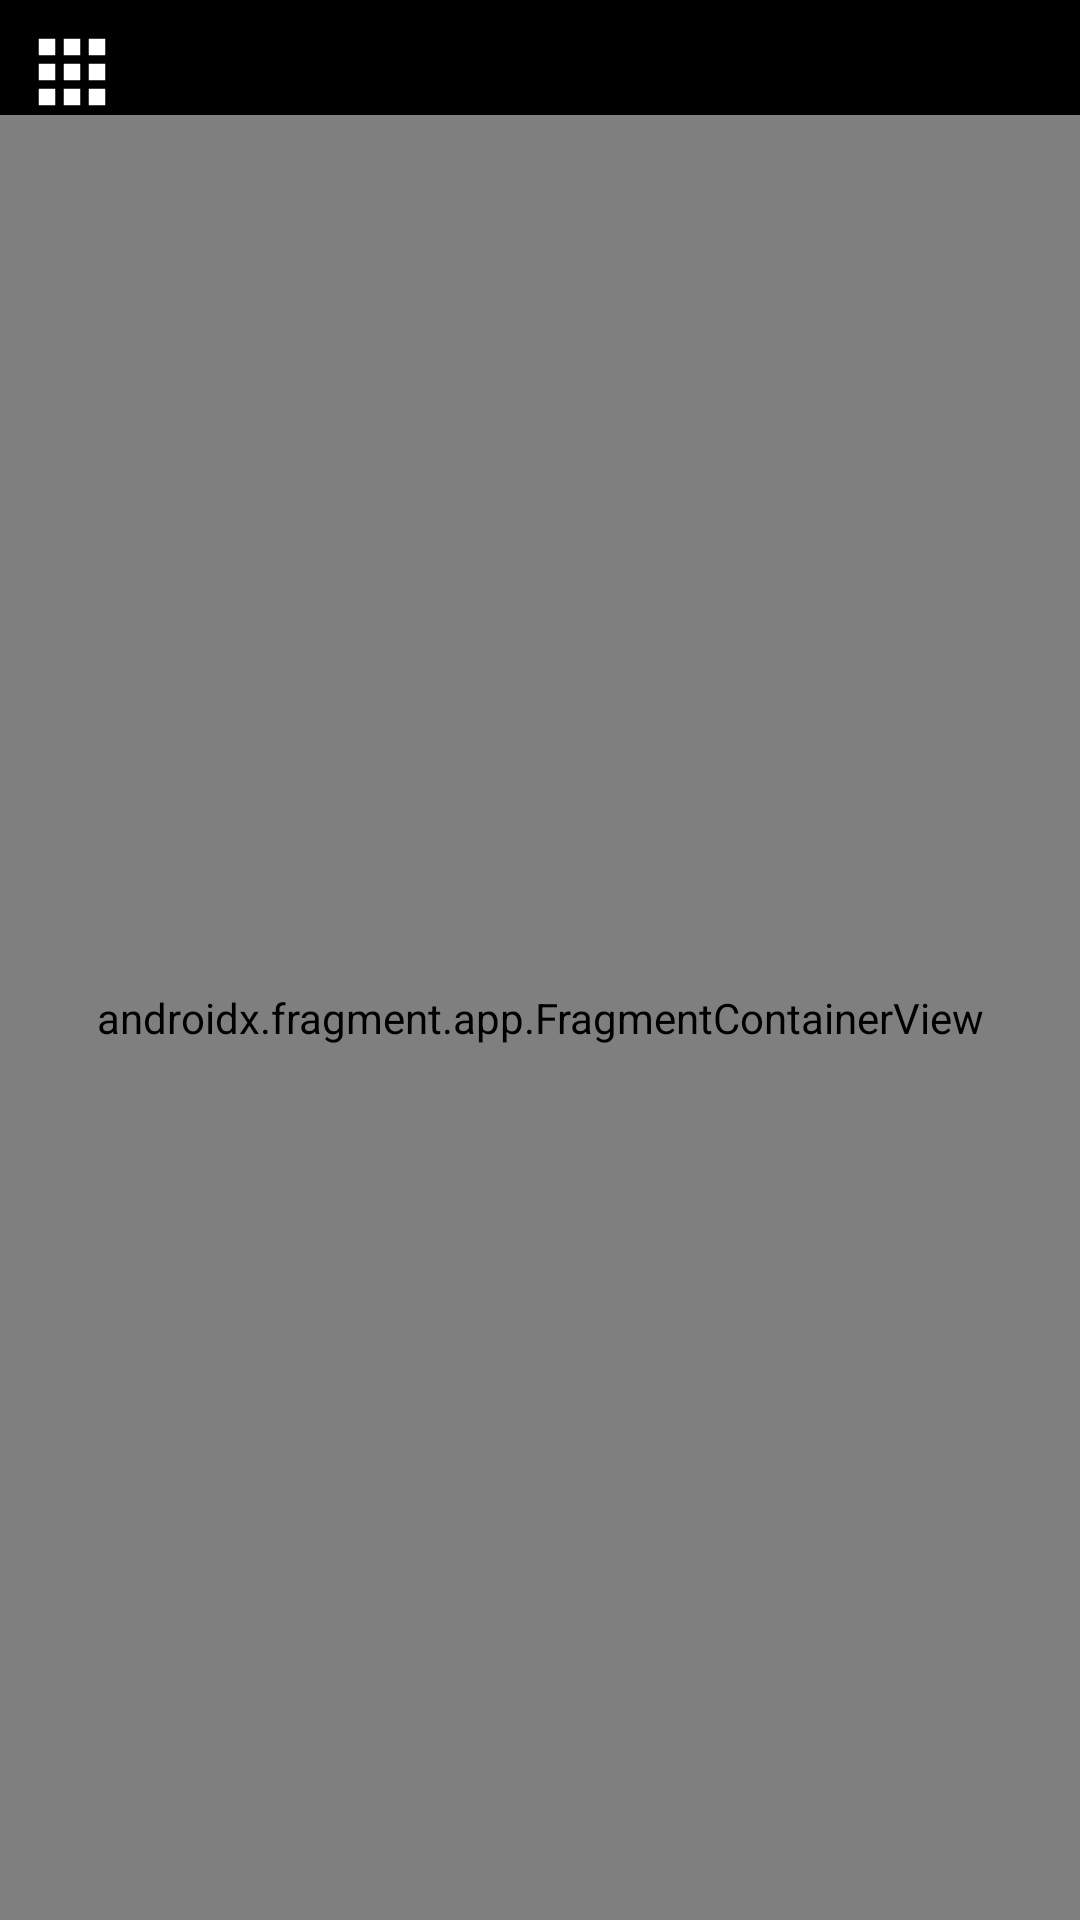

Where to tap for icons on this 1080×1920 app screen, as (x=x, y=y):
apps: (x=72, y=72)
